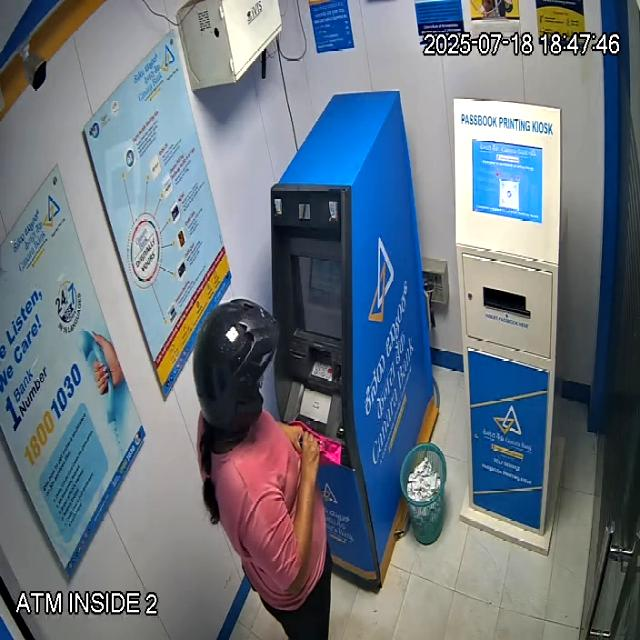helmet: (191, 296, 281, 432)
